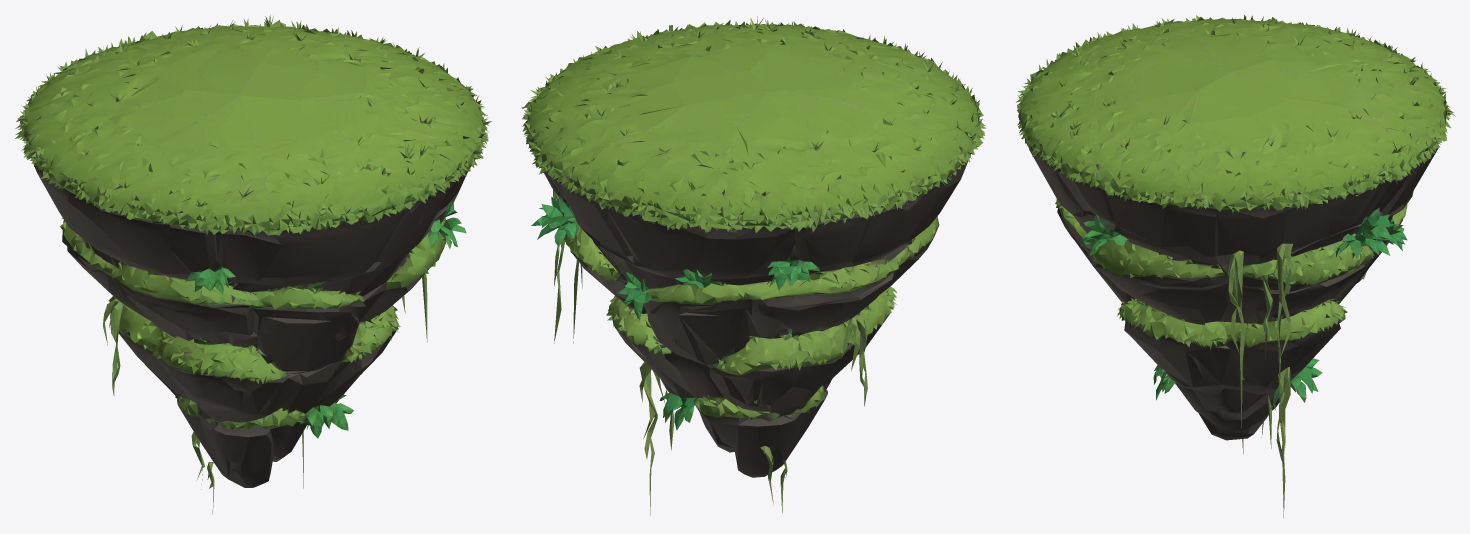
Rendered from island-base.glb.
The picture shows the model from 3 angles, left to right: view 1: azimuth 30°, elevation 25°; view 2: azimuth 150°, elevation 25°; view 3: azimuth 270°, elevation 25°; orthographic projection. The views are drawn at different scales.
Size of the model in its own units: 1.85 by 1.9 by 1.87.
Materials: 1 (1 with a texture image).
